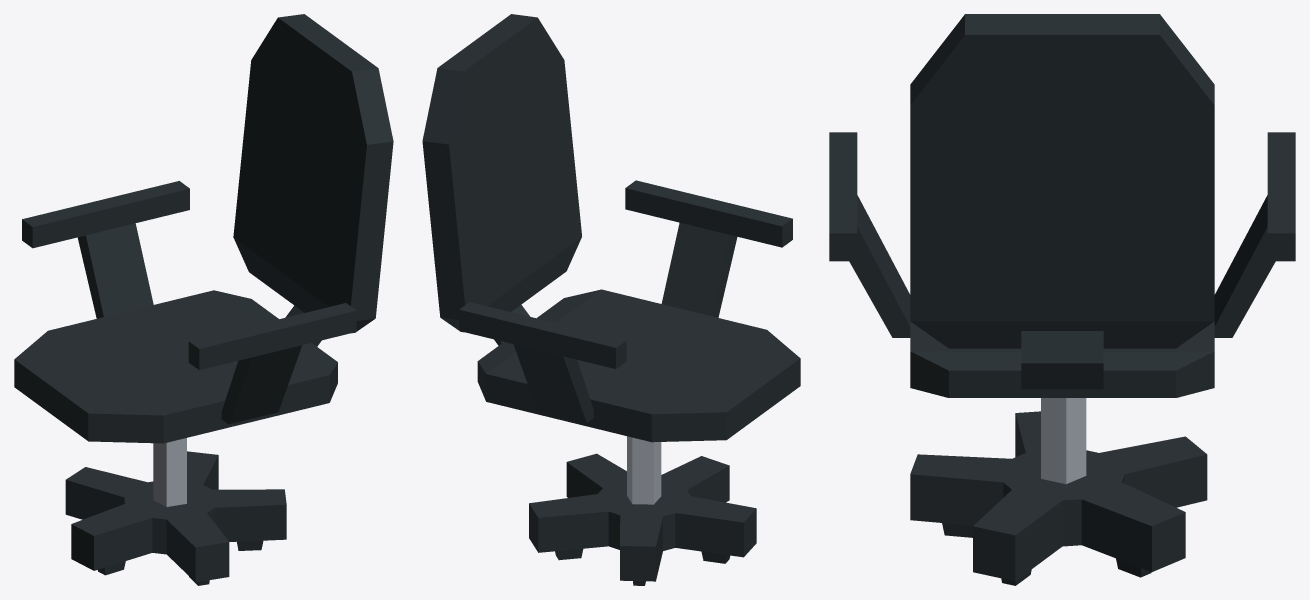
The model's file is office_chair.fbx.
The picture shows the model from 3 angles, left to right: view 1: azimuth 30°, elevation 25°; view 2: azimuth 150°, elevation 25°; view 3: azimuth 270°, elevation 25°; orthographic projection. The views are drawn at different scales.
Parts seen in each view (by area): view 1: Cube, Cube.001, Cylinder; view 2: Cube, Cube.001, Cylinder; view 3: Cube.001, Cylinder, Cube.
Part boxes in pixels (x1=…): Cube: x1=14, y1=181, x2=356, y2=443; Cube.001: x1=233, y1=14, x2=393, y2=333; Cylinder: x1=65, y1=438, x2=286, y2=585; Cube: x1=459, y1=180, x2=800, y2=442; Cube.001: x1=422, y1=14, x2=581, y2=332; Cylinder: x1=529, y1=436, x2=756, y2=585; Cube.001: x1=910, y1=14, x2=1214, y2=348; Cylinder: x1=910, y1=398, x2=1207, y2=585; Cube: x1=829, y1=132, x2=1295, y2=397.
Bounding box in the file's own units: 2.89 × 4.48 × 3.06.
